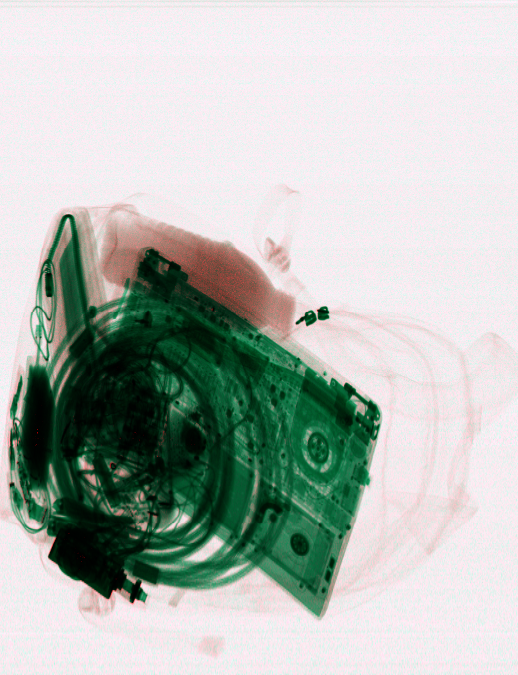Plastic Bottle: (99, 205, 296, 332)
